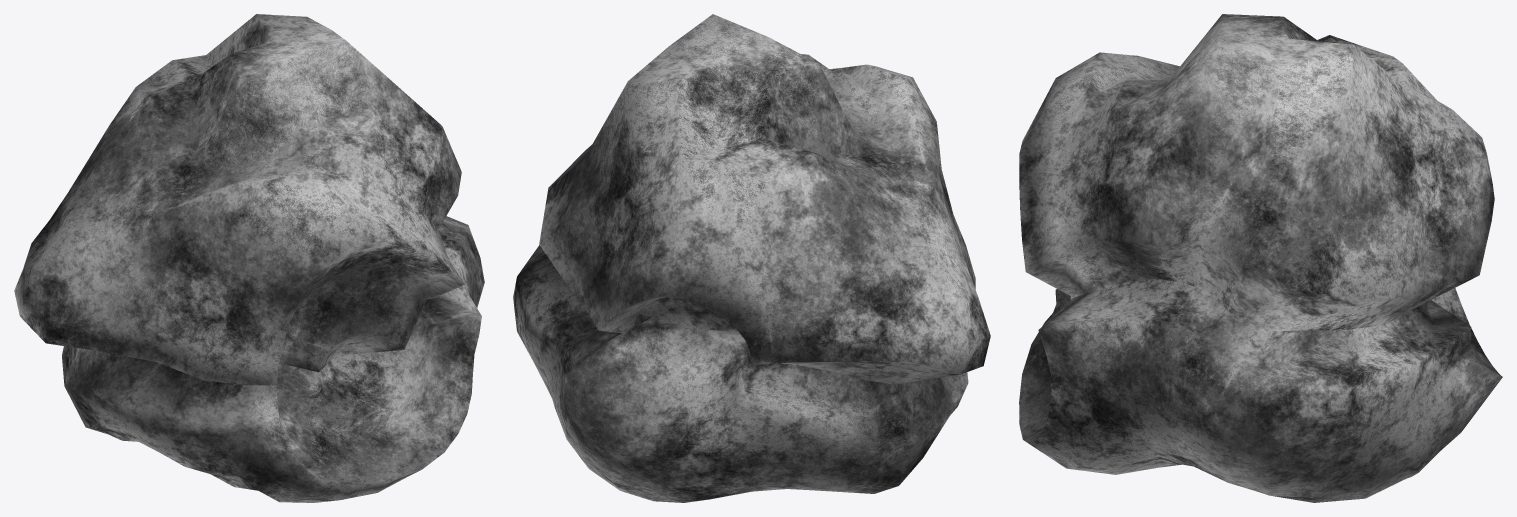
File: Meteoroid01d.fbx
The picture shows the model from 3 angles, left to right: view 1: azimuth 30°, elevation 25°; view 2: azimuth 150°, elevation 25°; view 3: azimuth 270°, elevation 25°; orthographic projection. The views are drawn at different scales.
Visible parts, largest first — view 1: Meteoroid01d; view 2: Meteoroid01d; view 3: Meteoroid01d.
Boxes of the visible parts, box(x1,y1,x2,y2) form: Meteoroid01d: box(14, 14, 484, 502); Meteoroid01d: box(513, 14, 990, 502); Meteoroid01d: box(1019, 14, 1502, 502).
Bounding box in the file's own units: 514 × 466 × 455.
